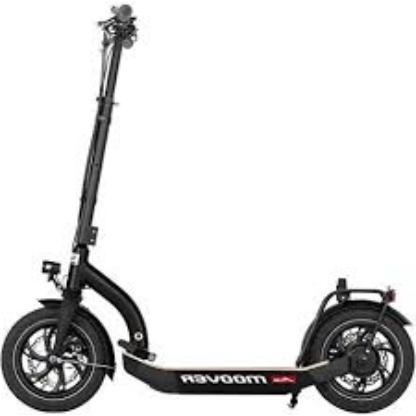bike: (0, 3, 416, 414)
car: (1, 2, 416, 415)
